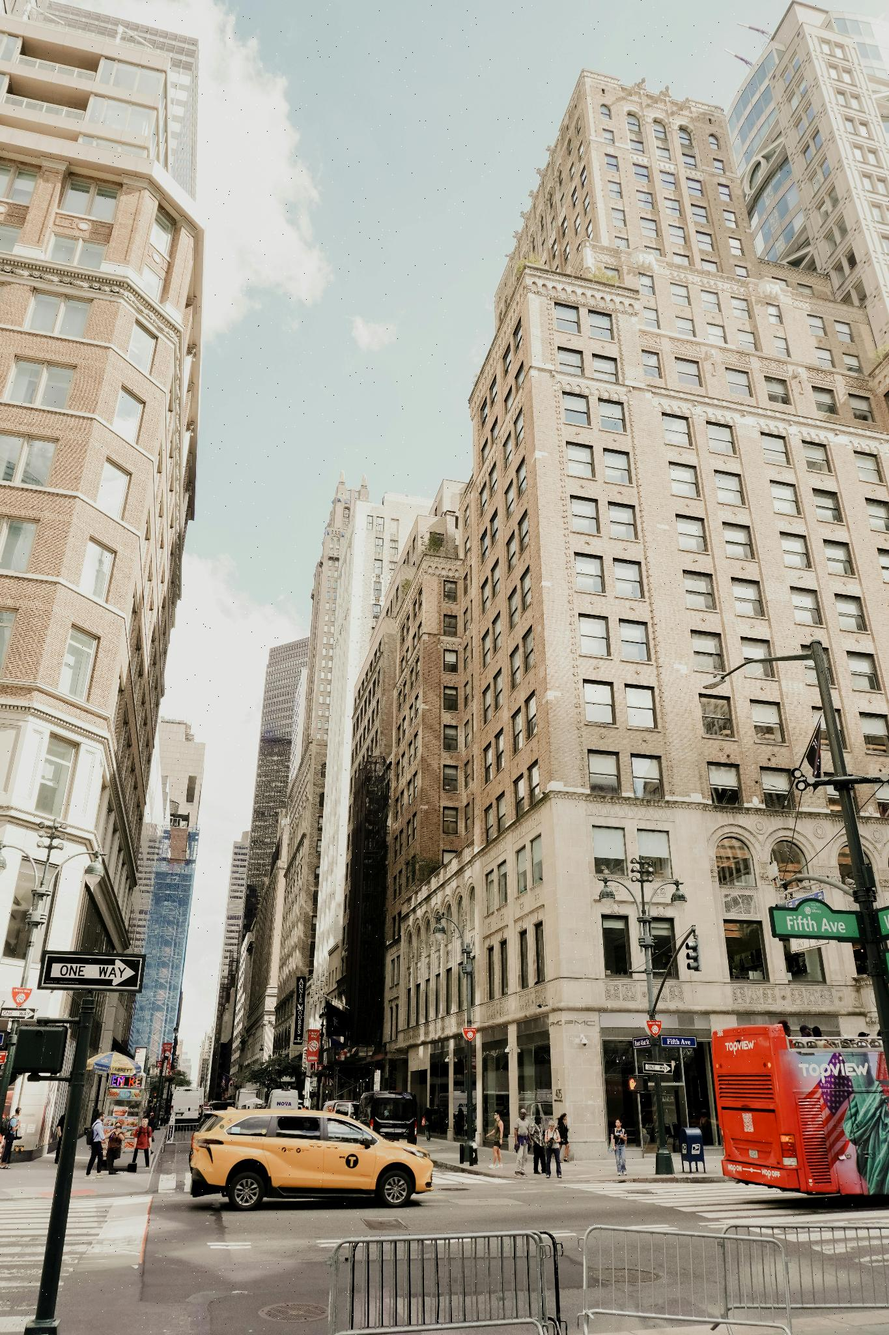car: (185, 1109, 428, 1213), (368, 1090, 421, 1146)
pedestrian: (487, 1111, 505, 1172), (514, 1107, 529, 1179), (530, 1114, 546, 1177), (88, 1115, 105, 1174), (138, 1115, 153, 1172), (555, 1112, 568, 1175), (616, 1121, 630, 1177), (545, 1116, 558, 1175)
